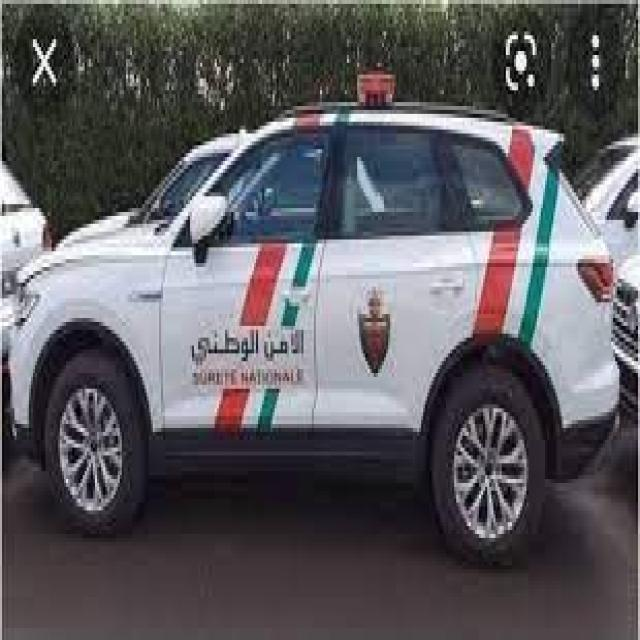police: (11, 84, 626, 559)
